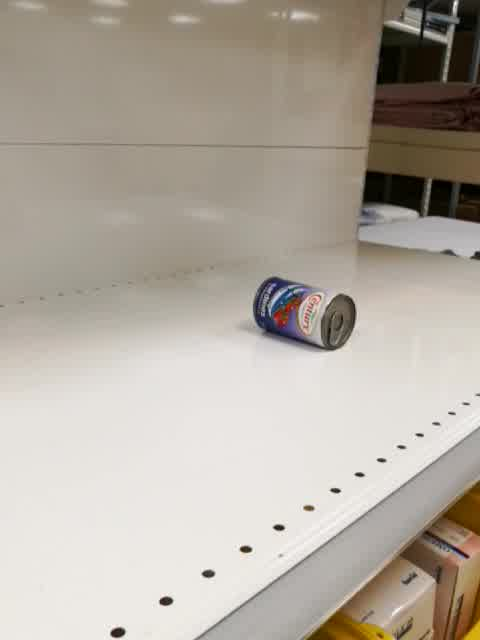sardine: (251, 274, 357, 354)
